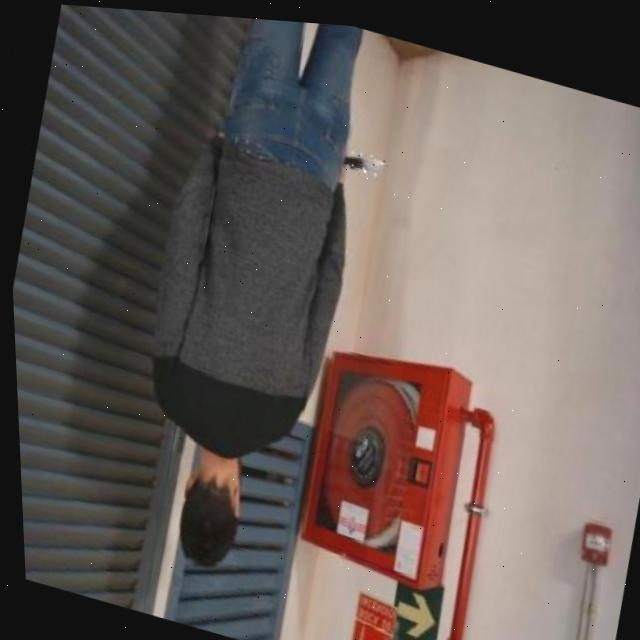knife: (341, 142, 389, 174)
